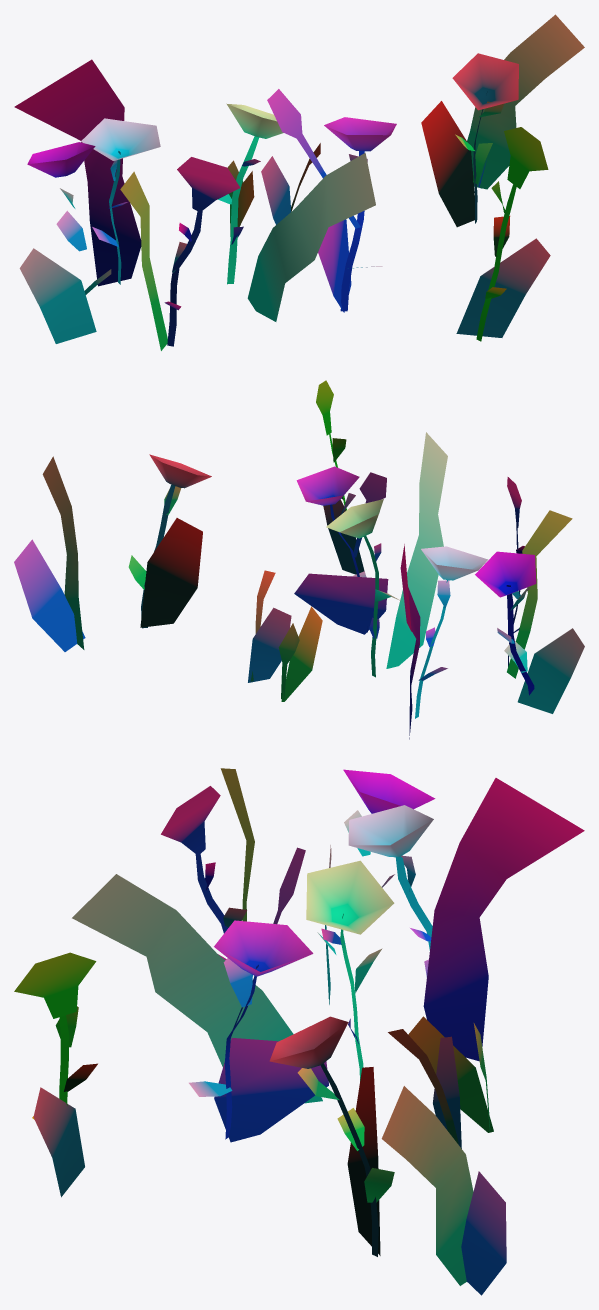
Rendered from matted_pratia_a.fbx.
3 renders of one model, top to bottom at view 1: azimuth 30°, elevation 25°; view 2: azimuth 150°, elevation 25°; view 3: azimuth 270°, elevation 25°, orthographic. The views are drawn at different scales.
Visible parts, largest first — view 1: _d19c_VarA_LOD1; view 2: _d19c_VarA_LOD1; view 3: _d19c_VarA_LOD1.
Boxes of the visible parts, <box> form: _d19c_VarA_LOD1: <box>14,14,584,350</box>; _d19c_VarA_LOD1: <box>14,380,584,739</box>; _d19c_VarA_LOD1: <box>14,768,584,1295</box>.
Bounding box in the file's own units: 18.63 × 6.78 × 12.35.
